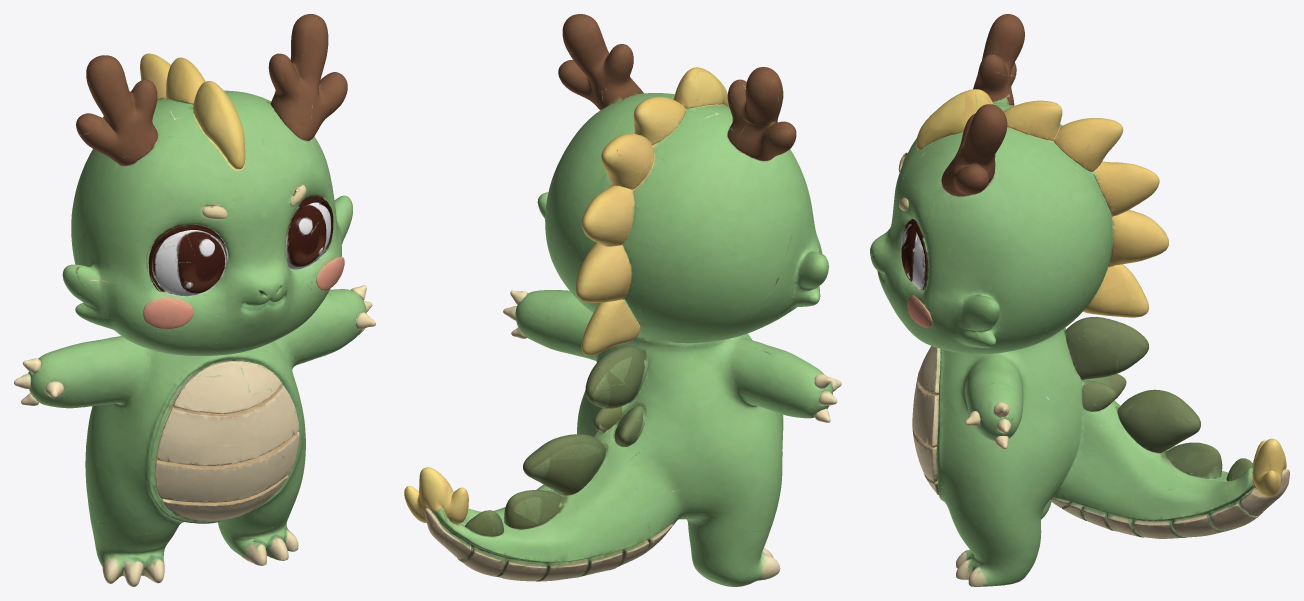
File: Baby_Dragon_2.glb
3 views of the same model, side by side, from view 1: azimuth 30°, elevation 25°; view 2: azimuth 150°, elevation 25°; view 3: azimuth 270°, elevation 25° (orthographic). The views are drawn at different scales.
Visible parts, largest first — view 1: tmpbyuty67jobj; view 2: tmpbyuty67jobj; view 3: tmpbyuty67jobj.
Boxes of the visible parts, left/top/right/bottom form: tmpbyuty67jobj: left=14, top=14, right=375, bottom=586; tmpbyuty67jobj: left=404, top=14, right=841, bottom=586; tmpbyuty67jobj: left=870, top=14, right=1289, bottom=586.
Bounding box in the file's own units: 0.0245 × 0.035 × 0.0271.
1 material, 1 textured.
